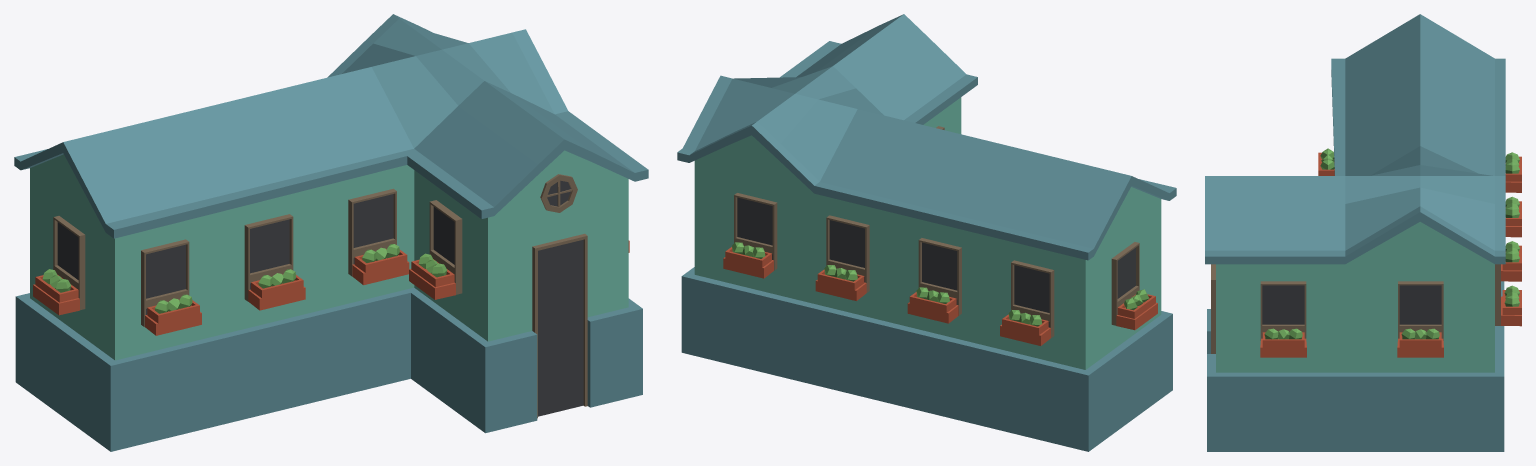
Rendered from Building_House_10.fbx.
The picture shows the model from 3 angles, left to right: view 1: azimuth 30°, elevation 25°; view 2: azimuth 150°, elevation 25°; view 3: azimuth 270°, elevation 25°; orthographic projection. The views are drawn at different scales.
Parts seen in each view (by area): view 1: Building_House_10; view 2: Building_House_10; view 3: Building_House_10.
Part boxes in pixels (<box>): Building_House_10: <box>14,14,648,451</box>; Building_House_10: <box>677,14,1176,451</box>; Building_House_10: <box>1205,14,1521,451</box>.
Bounding box in the file's own units: 1424 × 762 × 905.
